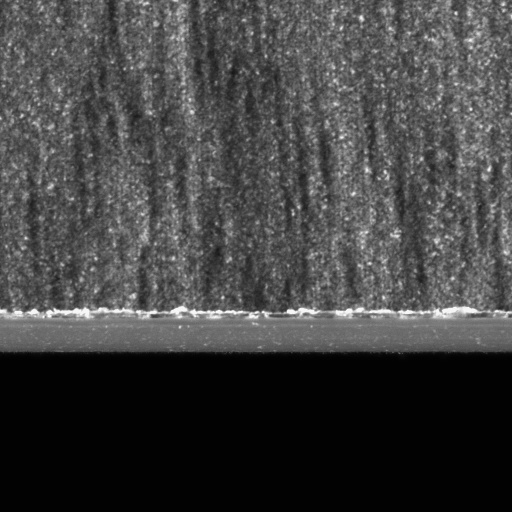jiaofeng: (255, 310, 369, 332), (453, 307, 511, 329)
